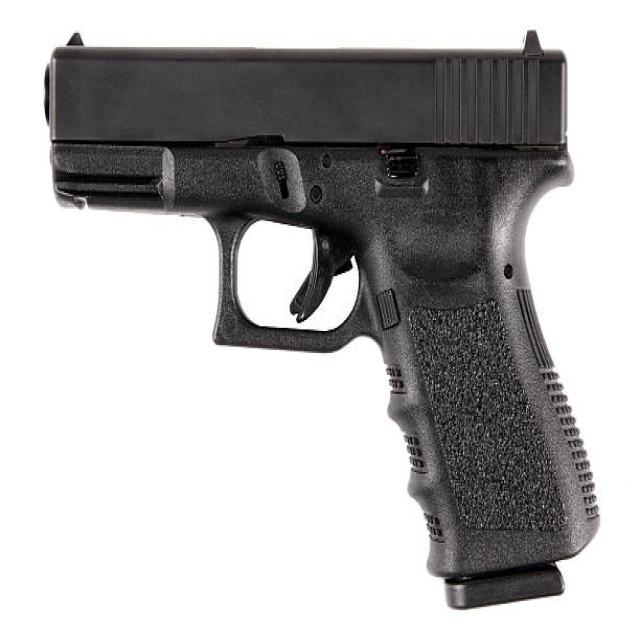pistol: (45, 20, 613, 617)
